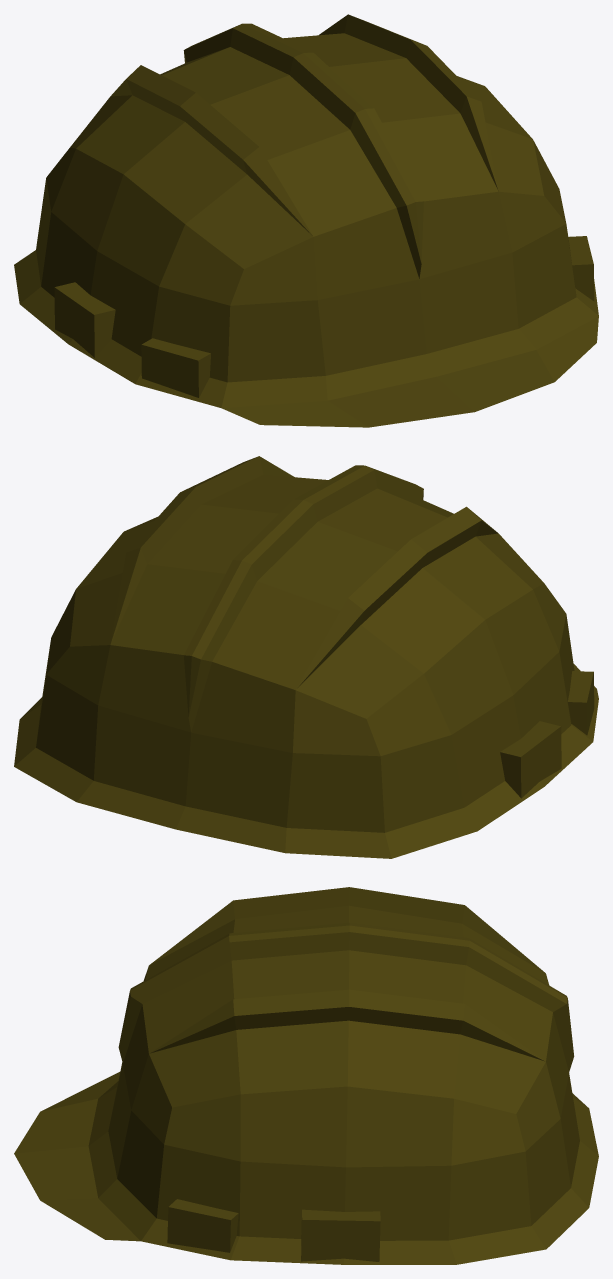
File: Hat_Hardhat.FBX
3 views of the same model, one above another, from view 1: azimuth 30°, elevation 25°; view 2: azimuth 150°, elevation 25°; view 3: azimuth 270°, elevation 25° (orthographic). The views are drawn at different scales.
Parts seen in each view (by area): view 1: Body; view 2: Body; view 3: Body.
Boxes of the visible parts, box(x1,y1,x2,y2) form: Body: box(14, 14, 598, 427); Body: box(14, 456, 598, 858); Body: box(14, 887, 598, 1264).
Bounding box in the file's own units: 49.08 × 23.57 × 53.42.
